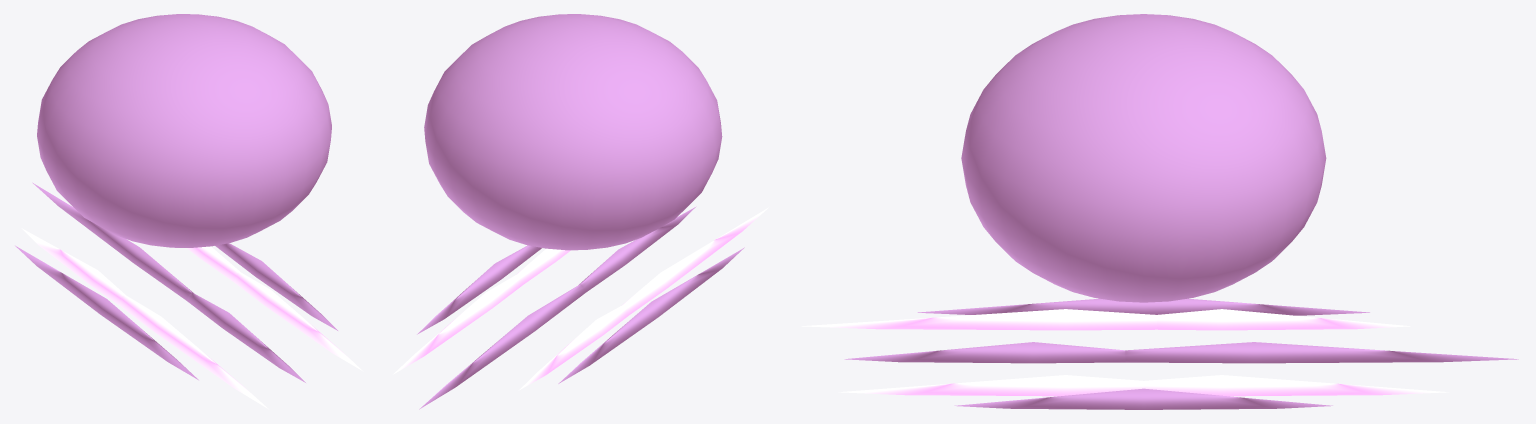
File: hollow-crown.glb
3 renders of one model, left to right at view 1: azimuth 30°, elevation 25°; view 2: azimuth 150°, elevation 25°; view 3: azimuth 270°, elevation 25°, orthographic. The views are drawn at different scales.
Visible parts, largest first — view 1: bell, tentacle-4, tentacle-5, tentacle-2, tentacle-7, tentacle-6, tentacle-0, tentacle-3, tentacle-1; view 2: bell, tentacle-4, tentacle-2, tentacle-5, tentacle-1, tentacle-0, tentacle-6, tentacle-3, tentacle-7; view 3: bell, tentacle-2, tentacle-5, tentacle-0, tentacle-7, tentacle-1, tentacle-6, tentacle-4, tentacle-3.
Boxes of the visible parts, <box> form: bell: <box>37,14,331,247</box>; tentacle-4: <box>15,245,198,380</box>; tentacle-5: <box>119,294,268,409</box>; tentacle-2: <box>32,182,193,300</box>; tentacle-7: <box>234,271,363,371</box>; tentacle-6: <box>186,292,305,382</box>; tentacle-0: <box>215,243,337,330</box>; tentacle-3: <box>21,228,125,304</box>; tentacle-1: <box>187,246,239,281</box>; bell: <box>424,14,722,250</box>; tentacle-4: <box>558,247,744,383</box>; tentacle-2: <box>419,284,585,409</box>; tentacle-5: <box>623,207,768,315</box>; tentacle-1: <box>393,274,523,374</box>; tentacle-0: <box>417,245,541,334</box>; tentacle-6: <box>579,206,696,292</box>; tentacle-3: <box>518,305,628,390</box>; tentacle-7: <box>517,248,570,284</box>; bell: <box>961,14,1326,302</box>; tentacle-2: <box>1125,342,1518,363</box>; tentacle-5: <box>801,309,1156,330</box>; tentacle-0: <box>954,388,1332,409</box>; tentacle-7: <box>838,375,1143,396</box>; tentacle-1: <box>1144,375,1448,396</box>; tentacle-6: <box>844,342,1125,363</box>; tentacle-4: <box>917,298,1369,315</box>; tentacle-3: <box>1157,309,1410,330</box>.
Size of the model in its own units: 1.72 by 1.68 by 3.41.
